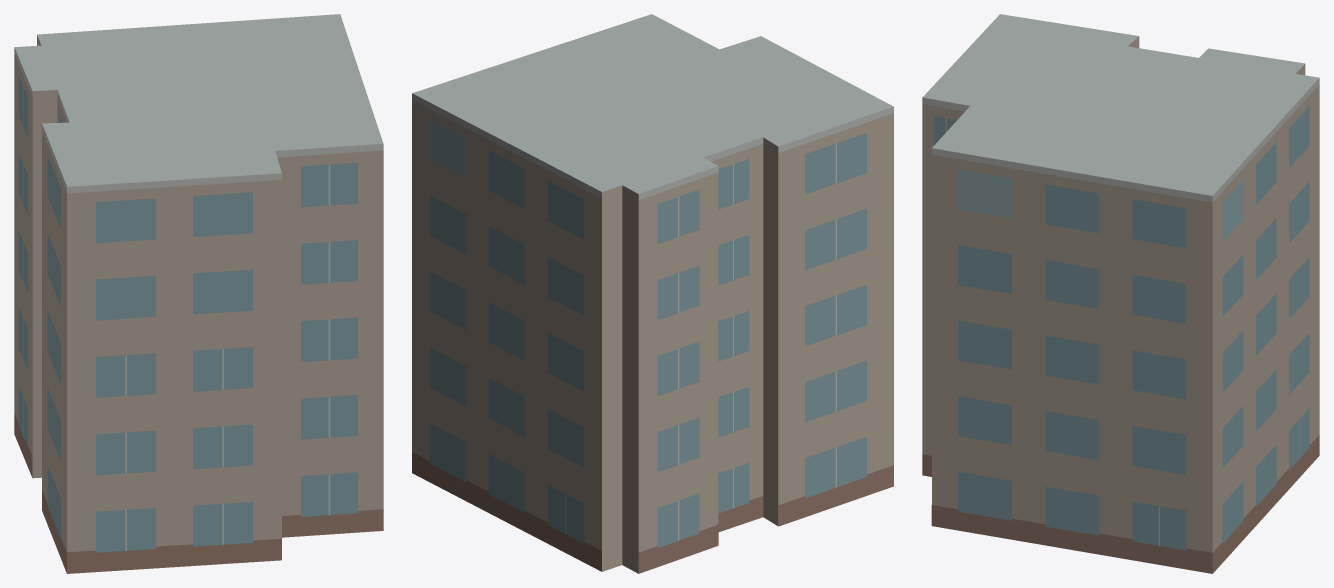
The model's file is survey-upis-32868119.glb.
3 views of the same model, side by side, from view 1: azimuth 30°, elevation 25°; view 2: azimuth 150°, elevation 25°; view 3: azimuth 270°, elevation 25° (orthographic). The views are drawn at different scales.
Visible parts, largest first — view 1: survey-upis-32868119.tmp; view 2: survey-upis-32868119.tmp; view 3: survey-upis-32868119.tmp.
Part boxes in pixels (bbox=[...]): survey-upis-32868119.tmp: bbox=[14, 14, 383, 573]; survey-upis-32868119.tmp: bbox=[412, 14, 893, 573]; survey-upis-32868119.tmp: bbox=[922, 14, 1319, 573].
Size of the model in its own units: 14.68 by 14.2 by 13.54.
